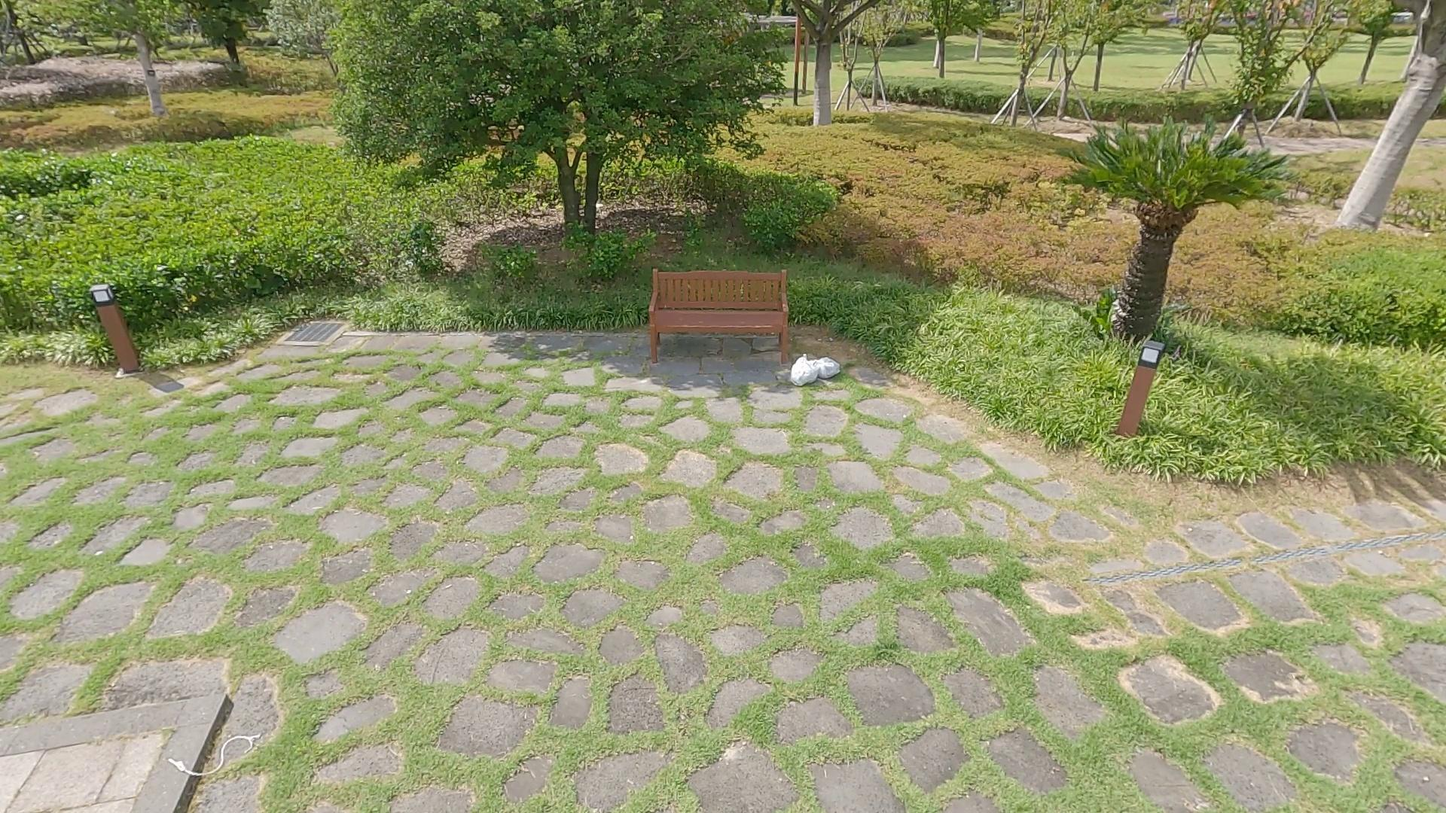trash: (786, 353, 823, 389), (816, 351, 844, 381)
